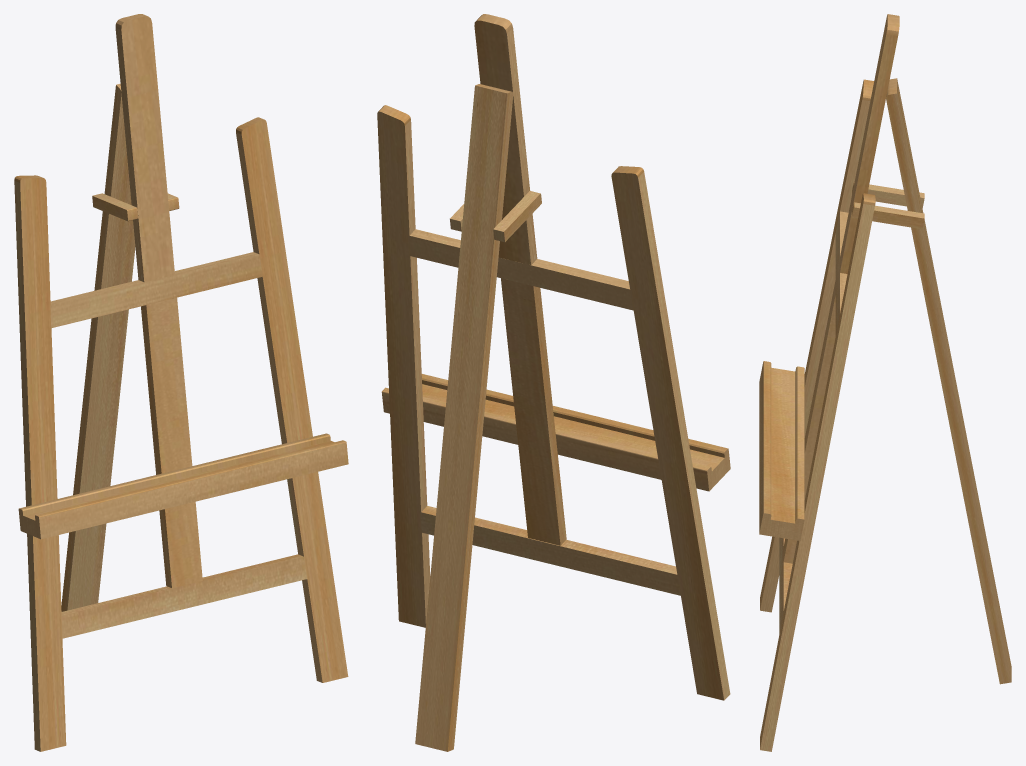
Rendered from easel.FBX.
The picture shows the model from 3 angles, left to right: view 1: azimuth 30°, elevation 25°; view 2: azimuth 150°, elevation 25°; view 3: azimuth 270°, elevation 25°; orthographic projection. The views are drawn at different scales.
Parts seen in each view (by area): view 1: Box002; view 2: Box002; view 3: Box002.
Boxes of the visible parts, bbox=[...] form: Box002: bbox=[14, 14, 348, 751]; Box002: bbox=[377, 14, 730, 751]; Box002: bbox=[759, 14, 1011, 751].
Size of the model in its own units: 30 by 60.61 by 21.04.
